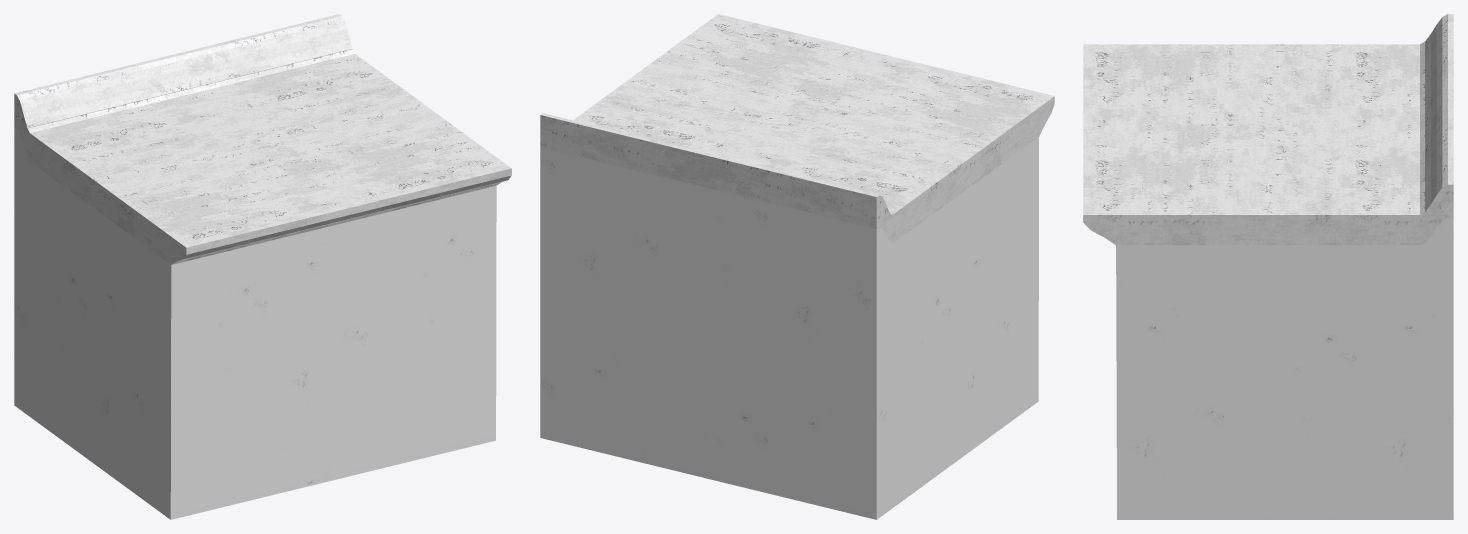
The model's file is table2.fbx.
3 views of the same model, side by side, from view 1: azimuth 30°, elevation 25°; view 2: azimuth 150°, elevation 25°; view 3: azimuth 270°, elevation 25° (orthographic). The views are drawn at different scales.
Parts seen in each view (by area): view 1: Table2; view 2: Table2; view 3: Table2.
Boxes of the visible parts, left/top/right/bottom form: Table2: left=14, top=14, right=511, bottom=519; Table2: left=540, top=14, right=1054, bottom=519; Table2: left=1083, top=14, right=1453, bottom=519.
Size of the model in its own units: 120 by 110 by 110.
1 material, 1 textured.
